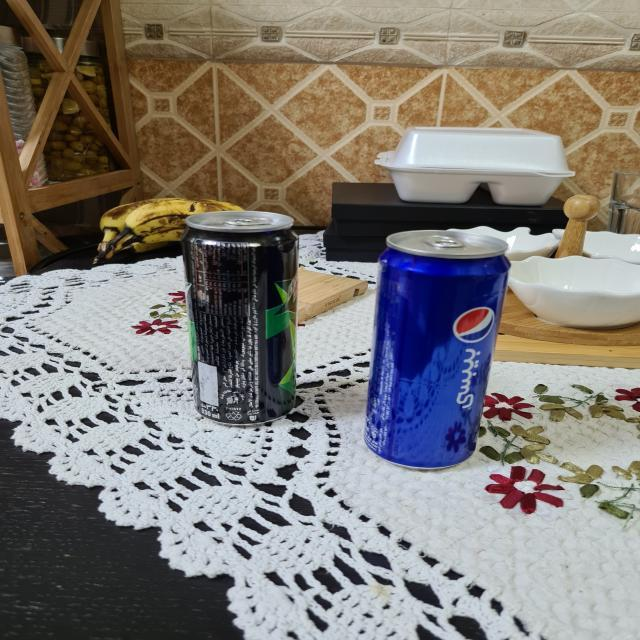can: (342, 228, 520, 474), (176, 210, 312, 429)
